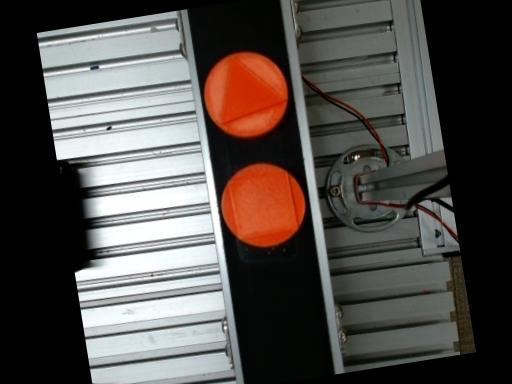Not_Square: (222, 55, 286, 124)
Orange_Waper: (203, 50, 288, 136), (221, 162, 305, 245)
Square: (228, 170, 298, 238)
